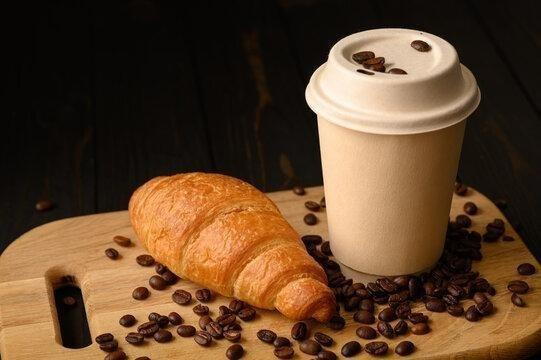cup-disposable: (304, 26, 482, 287)
